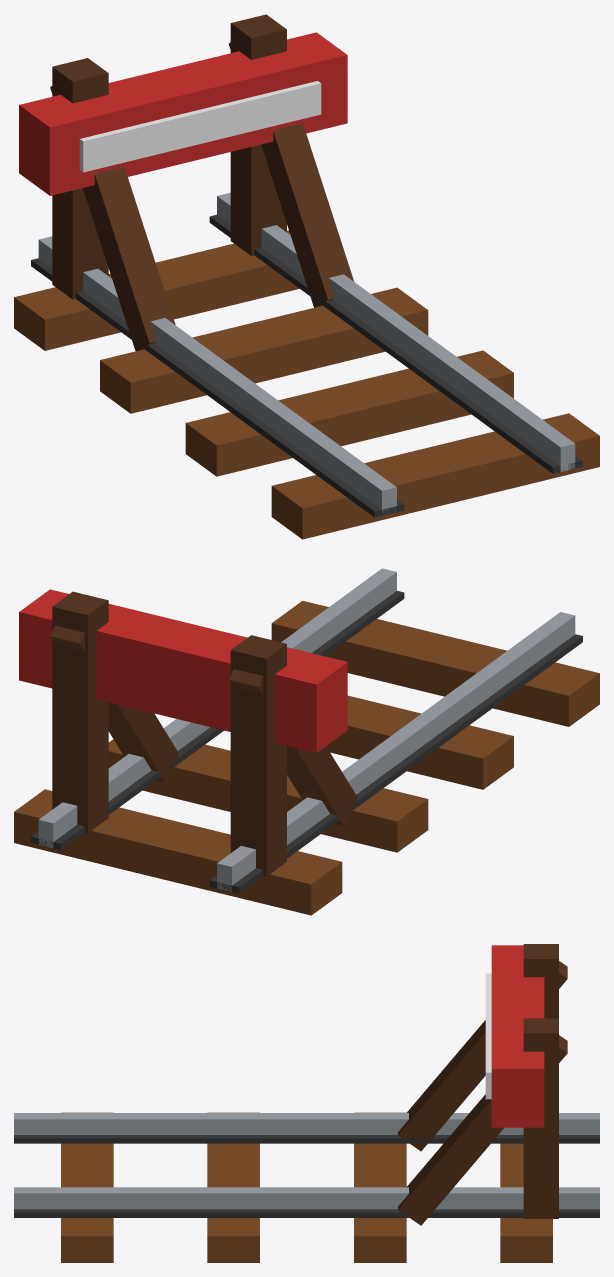
The model's file is Mining_RailBumper.fbx.
3 views of the same model, one above another, from view 1: azimuth 30°, elevation 25°; view 2: azimuth 150°, elevation 25°; view 3: azimuth 270°, elevation 25° (orthographic). The views are drawn at different scales.
Parts seen in each view (by area): view 1: Mining_RailBumper; view 2: Mining_RailBumper; view 3: Mining_RailBumper.
Boxes of the visible parts, x1,y1,x2,y2 form: Mining_RailBumper: [14, 14, 599, 539]; Mining_RailBumper: [14, 568, 599, 915]; Mining_RailBumper: [14, 944, 599, 1262].
Size of the model in its own units: 1 by 0.8 by 2.
